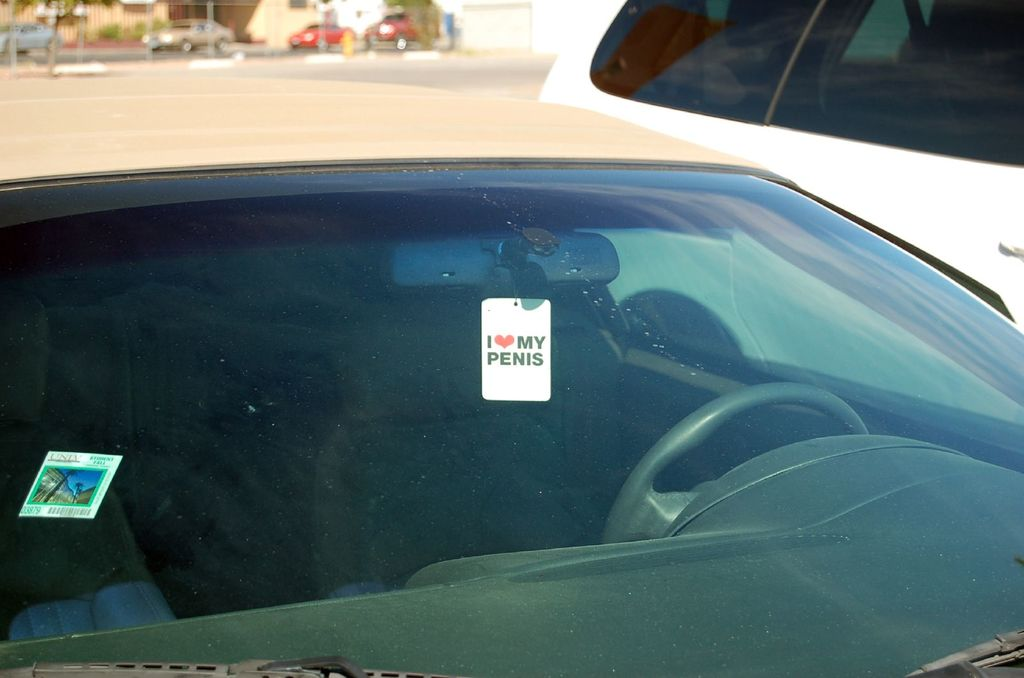Car: (28, 88, 977, 630), (529, 0, 1023, 328), (142, 15, 236, 49), (361, 9, 416, 47), (0, 18, 61, 49), (284, 18, 353, 43)
